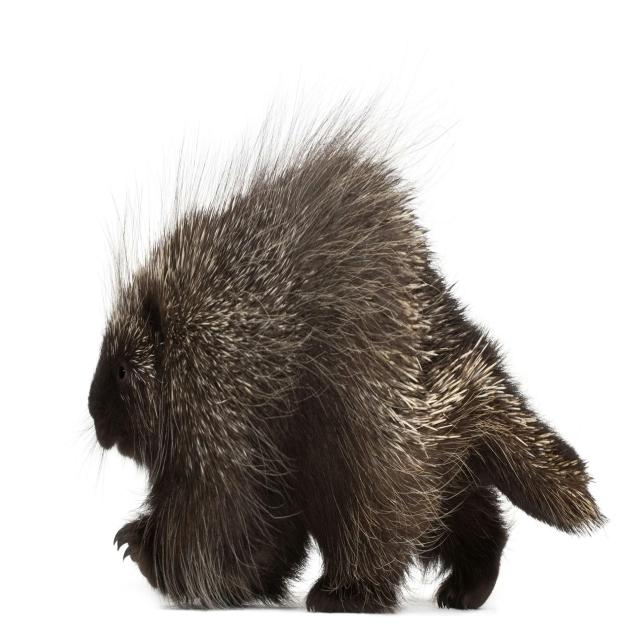porcupine: (89, 102, 605, 613)
